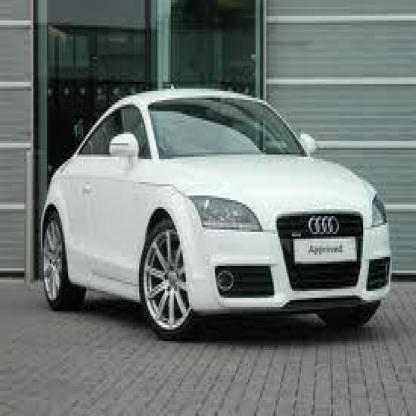Vehicle: (41, 87, 396, 346)
